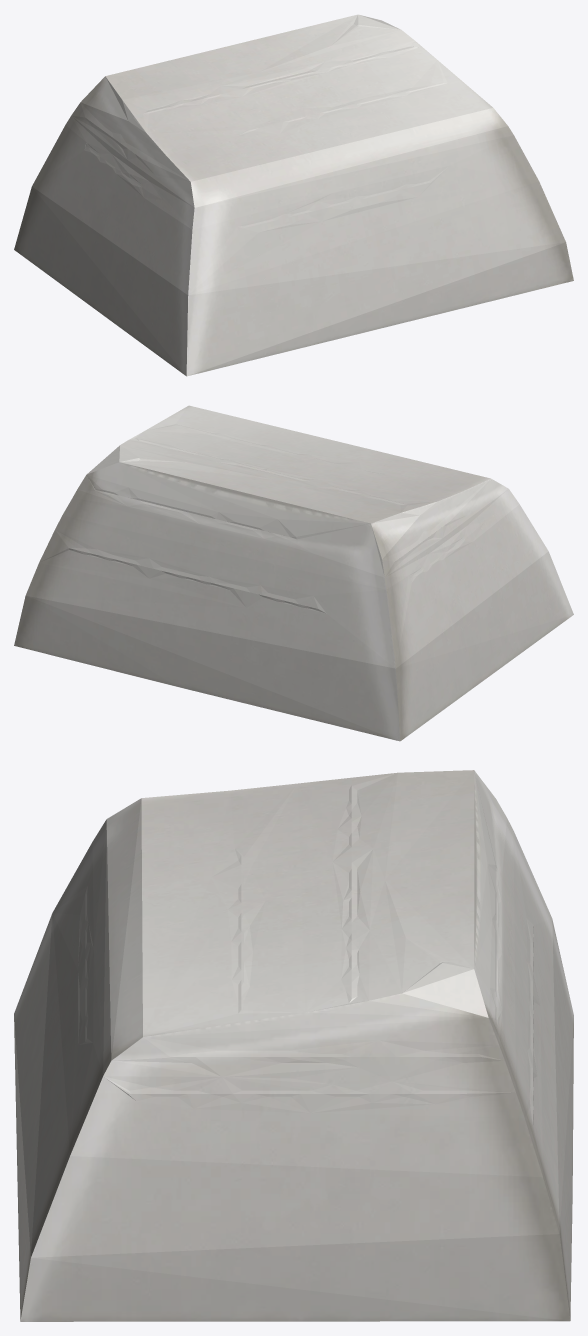
File: keycap125.glb
3 renders of one model, top to bottom at view 1: azimuth 30°, elevation 25°; view 2: azimuth 150°, elevation 25°; view 3: azimuth 270°, elevation 25°, orthographic. The views are drawn at different scales.
Visible parts, largest first — view 1: keycap125; view 2: keycap125; view 3: keycap125.
Boxes of the visible parts, x1,y1,x2,y2 form: keycap125: (14, 14, 573, 376); keycap125: (14, 405, 573, 741); keycap125: (14, 770, 573, 1321).
Bounding box in the file's own units: 23.55 × 10.49 × 18.15.
Materials: 1 (1 with a texture image).
